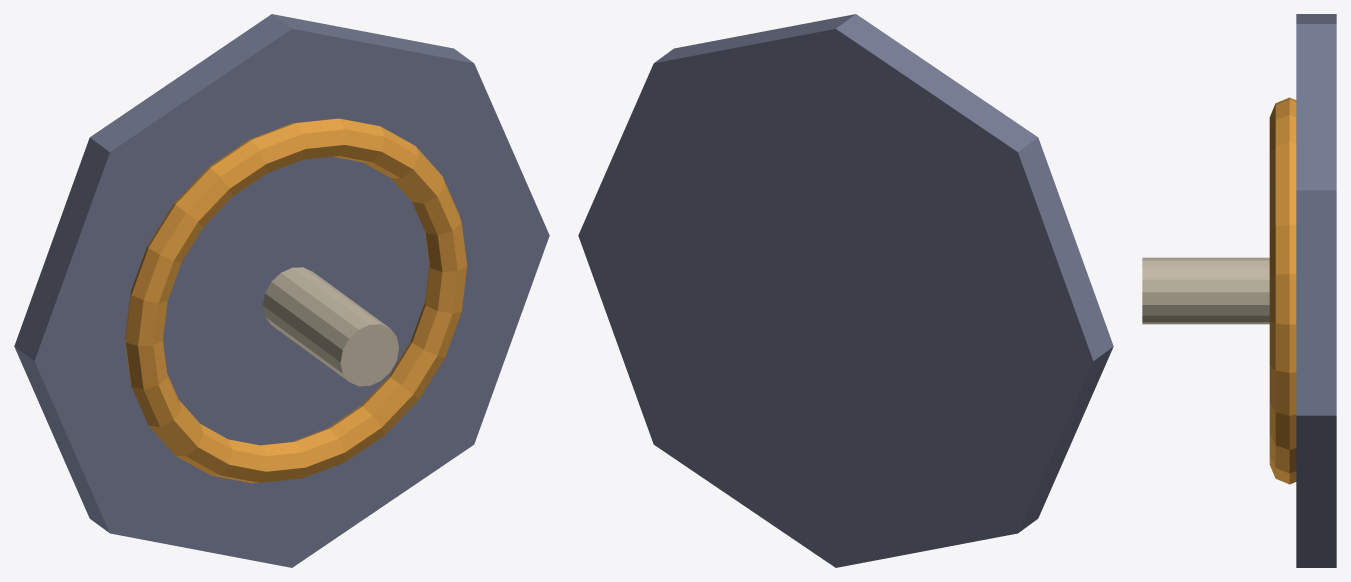
Rendered from bulwark-brand.glb.
The picture shows the model from 3 angles, left to right: view 1: azimuth 30°, elevation 25°; view 2: azimuth 150°, elevation 25°; view 3: azimuth 270°, elevation 25°; orthographic projection.
Parts seen in each view (by area): view 1: brand-shield-face, brand-rune-mark, brand-handle; view 2: brand-shield-face; view 3: brand-shield-face, brand-rune-mark, brand-handle.
Part boxes in pixels (<box>): brand-shield-face: <box>14,14,549,567</box>; brand-rune-mark: <box>124,118,467,483</box>; brand-handle: <box>263,267,398,386</box>; brand-shield-face: <box>578,14,1113,567</box>; brand-shield-face: <box>1296,14,1336,567</box>; brand-rune-mark: <box>1269,97,1296,484</box>; brand-handle: <box>1142,257,1269,324</box>.
Bounding box in the file's own units: 0.44 × 0.44 × 0.145.
